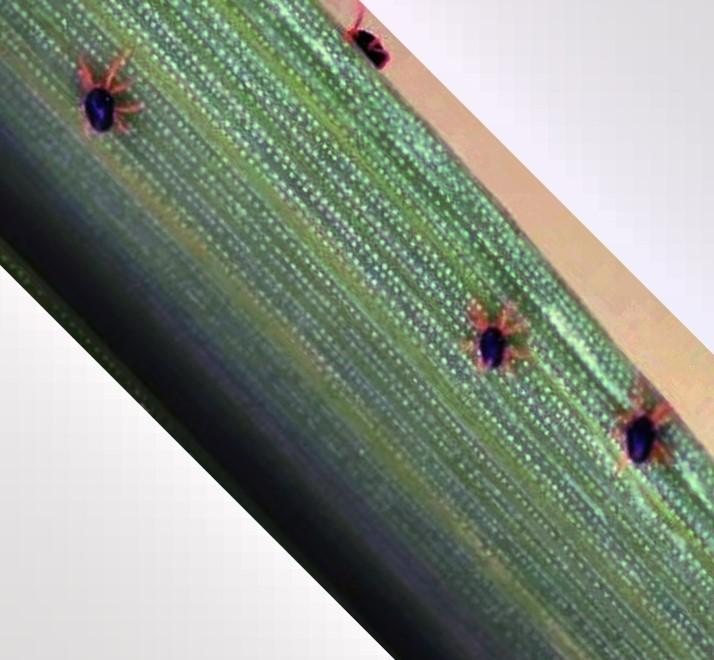Wheat Red Spider: (68, 45, 151, 143)
